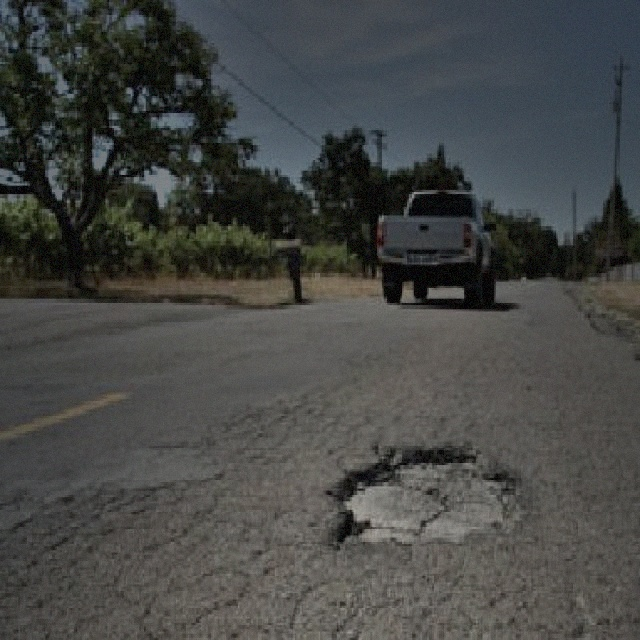pothole: (327, 440, 529, 552)
